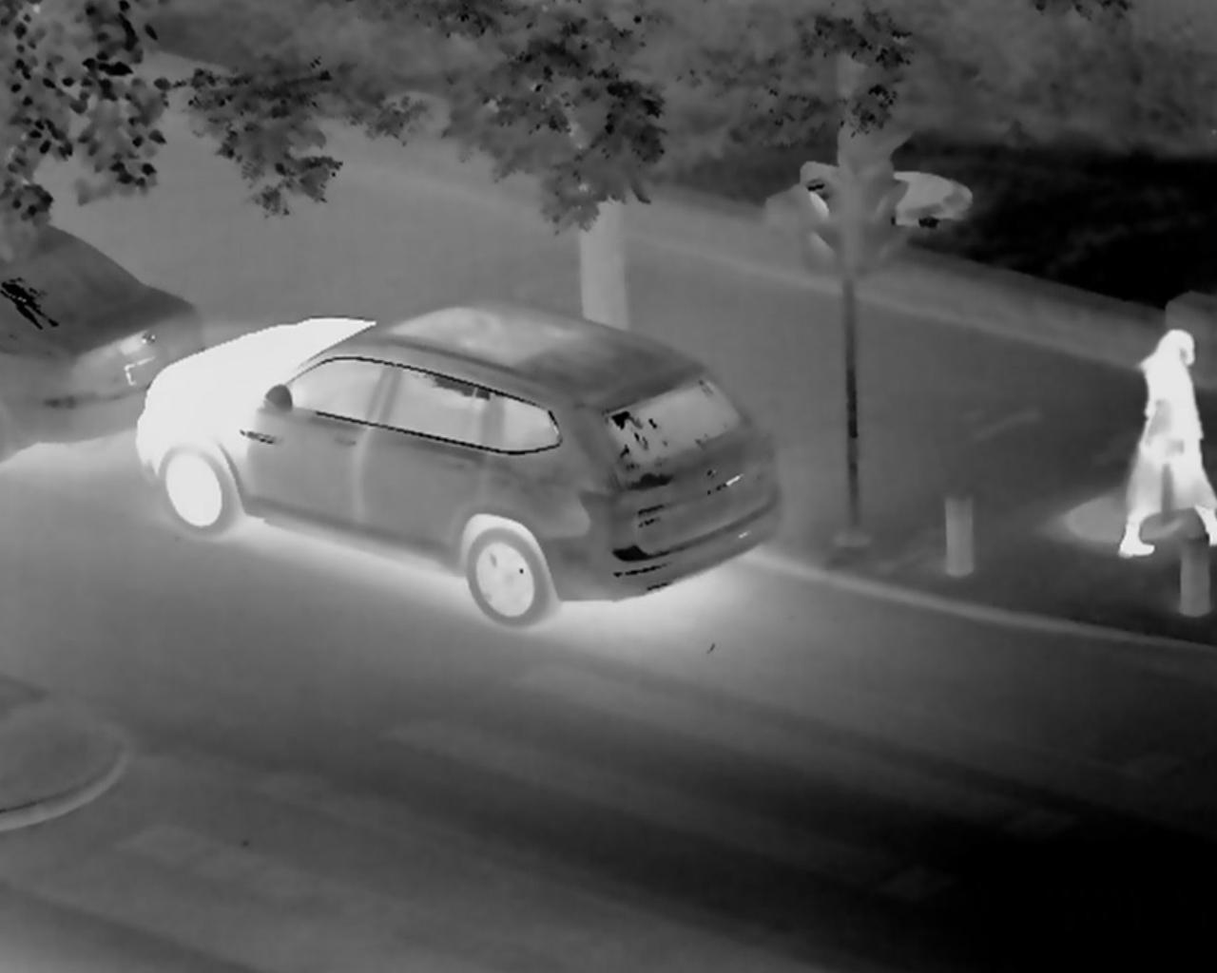person: (1111, 309, 1217, 557)
